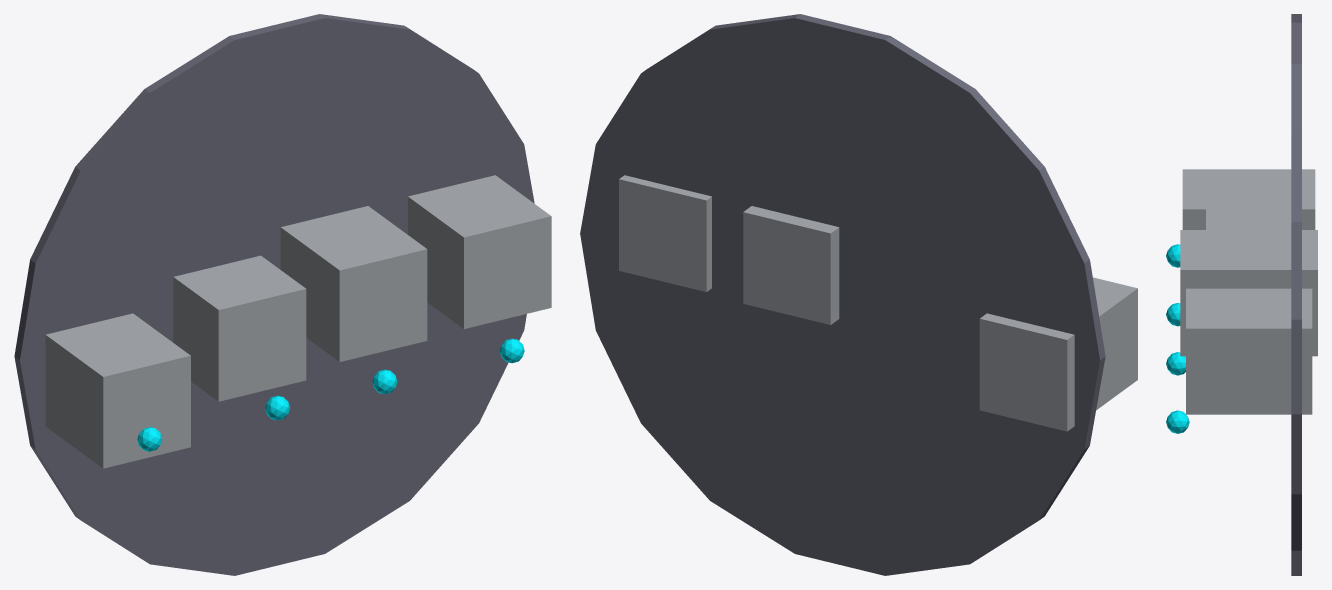
Rendered from 04_event_hazard_cluster.glb.
3 renders of one model, left to right at view 1: azimuth 30°, elevation 25°; view 2: azimuth 150°, elevation 25°; view 3: azimuth 270°, elevation 25°, orthographic. The views are drawn at different scales.
Parts seen in each view (by area): view 1: scatter_base, tech_crate_0, tech_crate_2, tech_crate_3, tech_crate_1; view 2: scatter_base, tech_crate_0, tech_crate_2, tech_crate_3; view 3: tech_crate_3, tech_crate_2, scatter_base, tech_crate_0, tech_crate_1, status_light_3, status_light_2, status_light_0, status_light_1.
Boxes of the visible parts, left/top/right/bottom form: scatter_base: left=14, top=14, right=534, bottom=575; tech_crate_0: left=45, top=313, right=190, bottom=468; tech_crate_2: left=280, top=206, right=427, bottom=361; tech_crate_3: left=408, top=175, right=551, bottom=328; tech_crate_1: left=173, top=255, right=306, bottom=401; scatter_base: left=580, top=14, right=1105, bottom=575; tech_crate_0: left=979, top=277, right=1137, bottom=431; tech_crate_2: left=743, top=206, right=839, bottom=324; tech_crate_3: left=619, top=175, right=711, bottom=291; tech_crate_3: left=1186, top=288, right=1312, bottom=414; tech_crate_2: left=1180, top=230, right=1317, bottom=356; scatter_base: left=1291, top=14, right=1301, bottom=575; tech_crate_0: left=1182, top=169, right=1315, bottom=229; tech_crate_1: left=1206, top=202, right=1291, bottom=229; status_light_3: left=1166, top=410, right=1189, bottom=433; status_light_2: left=1166, top=352, right=1185, bottom=375; status_light_0: left=1166, top=244, right=1180, bottom=267; status_light_1: left=1166, top=303, right=1180, bottom=326.
Size of the model in its own units: 1.9 by 1.87 by 0.5119.
